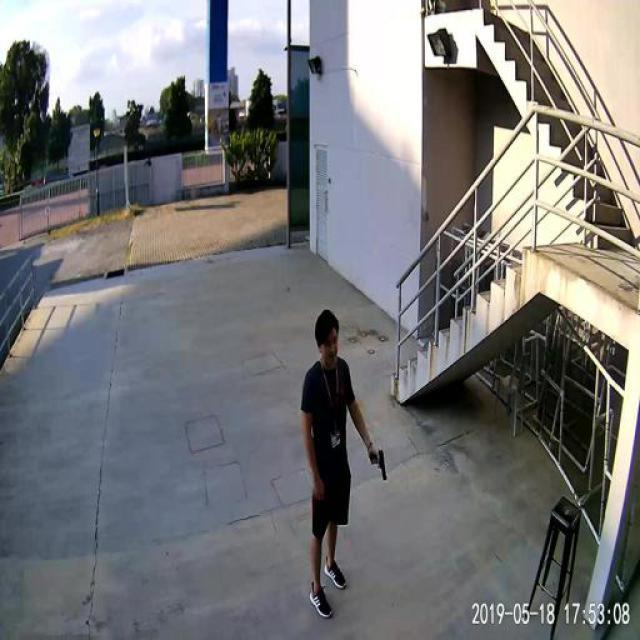weapon: (366, 445, 389, 482)
